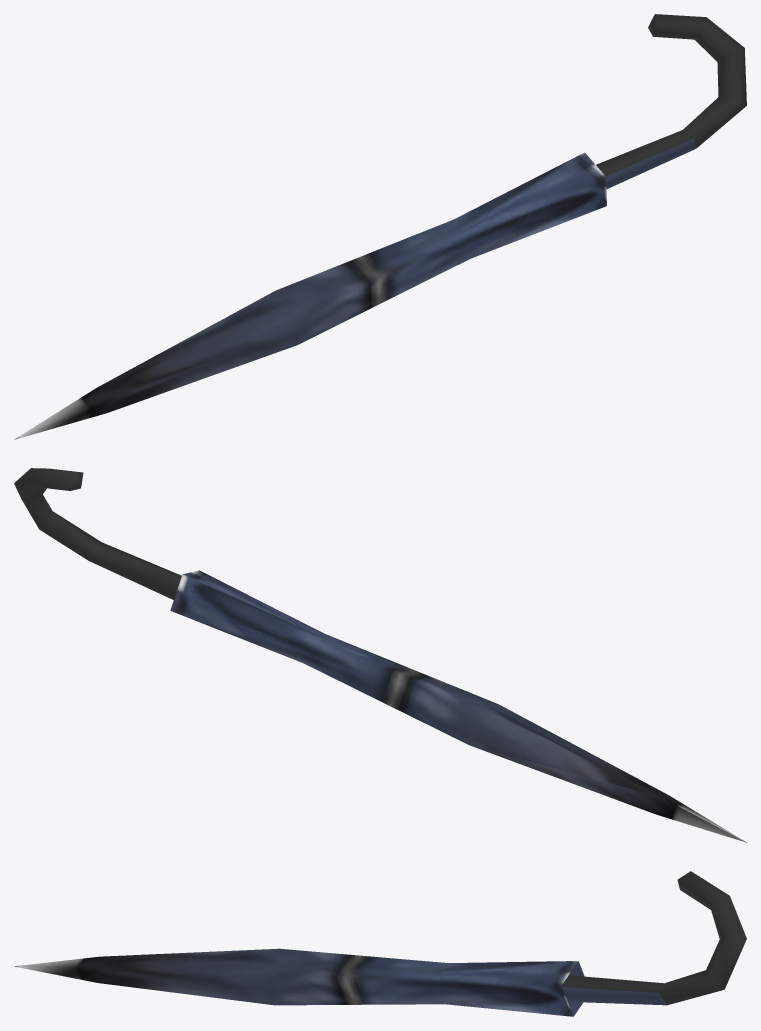
The model's file is p_umbrella.glb.
3 renders of one model, top to bottom at view 1: azimuth 30°, elevation 25°; view 2: azimuth 150°, elevation 25°; view 3: azimuth 330°, elevation 25°, orthographic. The views are drawn at different scales.
Parts seen in each view (by area): view 1: p_umbrella; view 2: p_umbrella; view 3: p_umbrella.
Part boxes in pixels (x1,y1,x2,y2): p_umbrella: (14, 14, 746, 439); p_umbrella: (14, 468, 746, 842); p_umbrella: (14, 871, 746, 1016).
Bounding box in the file's own units: 34.68 × 10.71 × 3.73.
2 materials, 2 textured.
